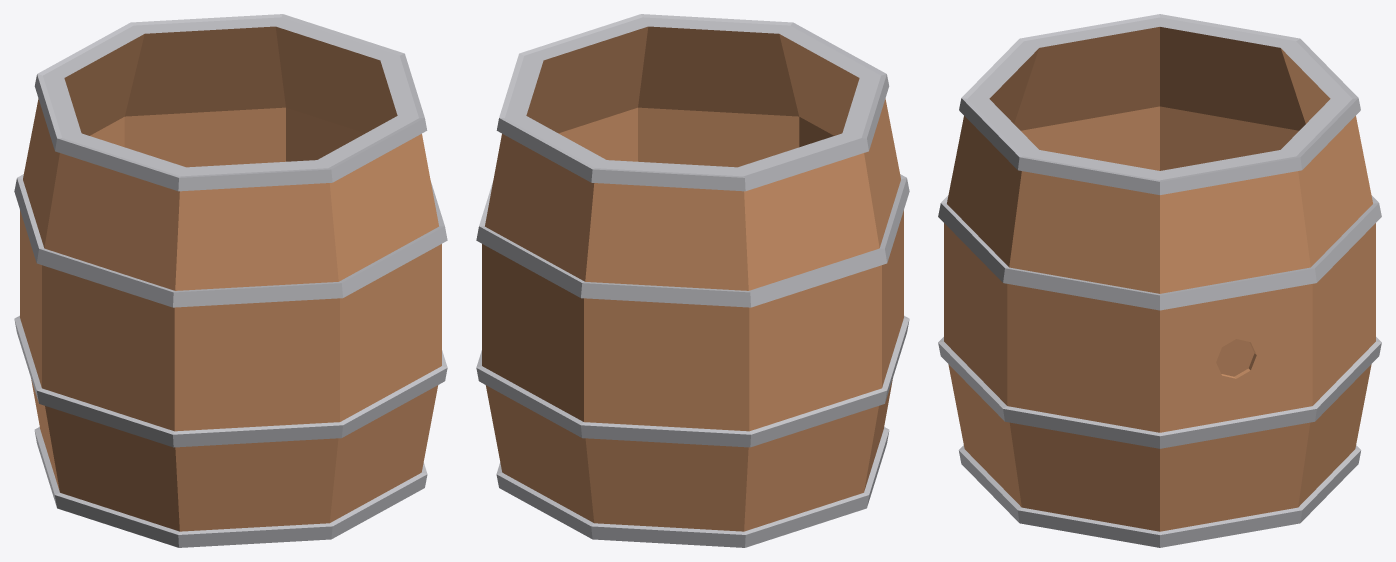
The model's file is barrel.fbx.
The picture shows the model from 3 angles, left to right: view 1: azimuth 30°, elevation 25°; view 2: azimuth 150°, elevation 25°; view 3: azimuth 270°, elevation 25°; orthographic projection.
Visible parts, largest first — view 1: Cylinder; view 2: Cylinder; view 3: Cylinder.
Boxes of the visible parts, bbox=[...] form: Cylinder: bbox=[14, 14, 447, 547]; Cylinder: bbox=[476, 14, 909, 547]; Cylinder: bbox=[938, 14, 1381, 547].
Size of the model in its own units: 80.62 by 73.38 by 80.62.
